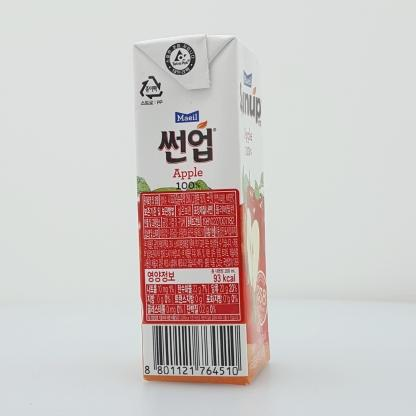-----------200ML: (132, 34, 270, 386)
